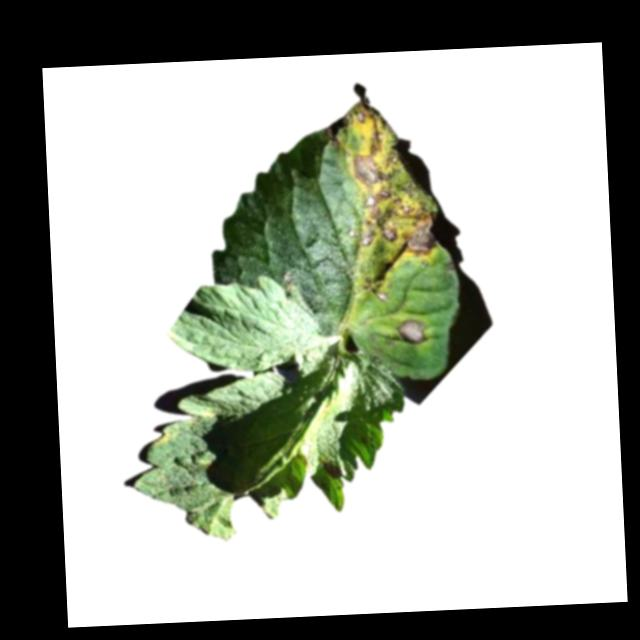Early_blight: (324, 97, 438, 261), (396, 318, 428, 344), (363, 273, 389, 302), (322, 460, 341, 480)
